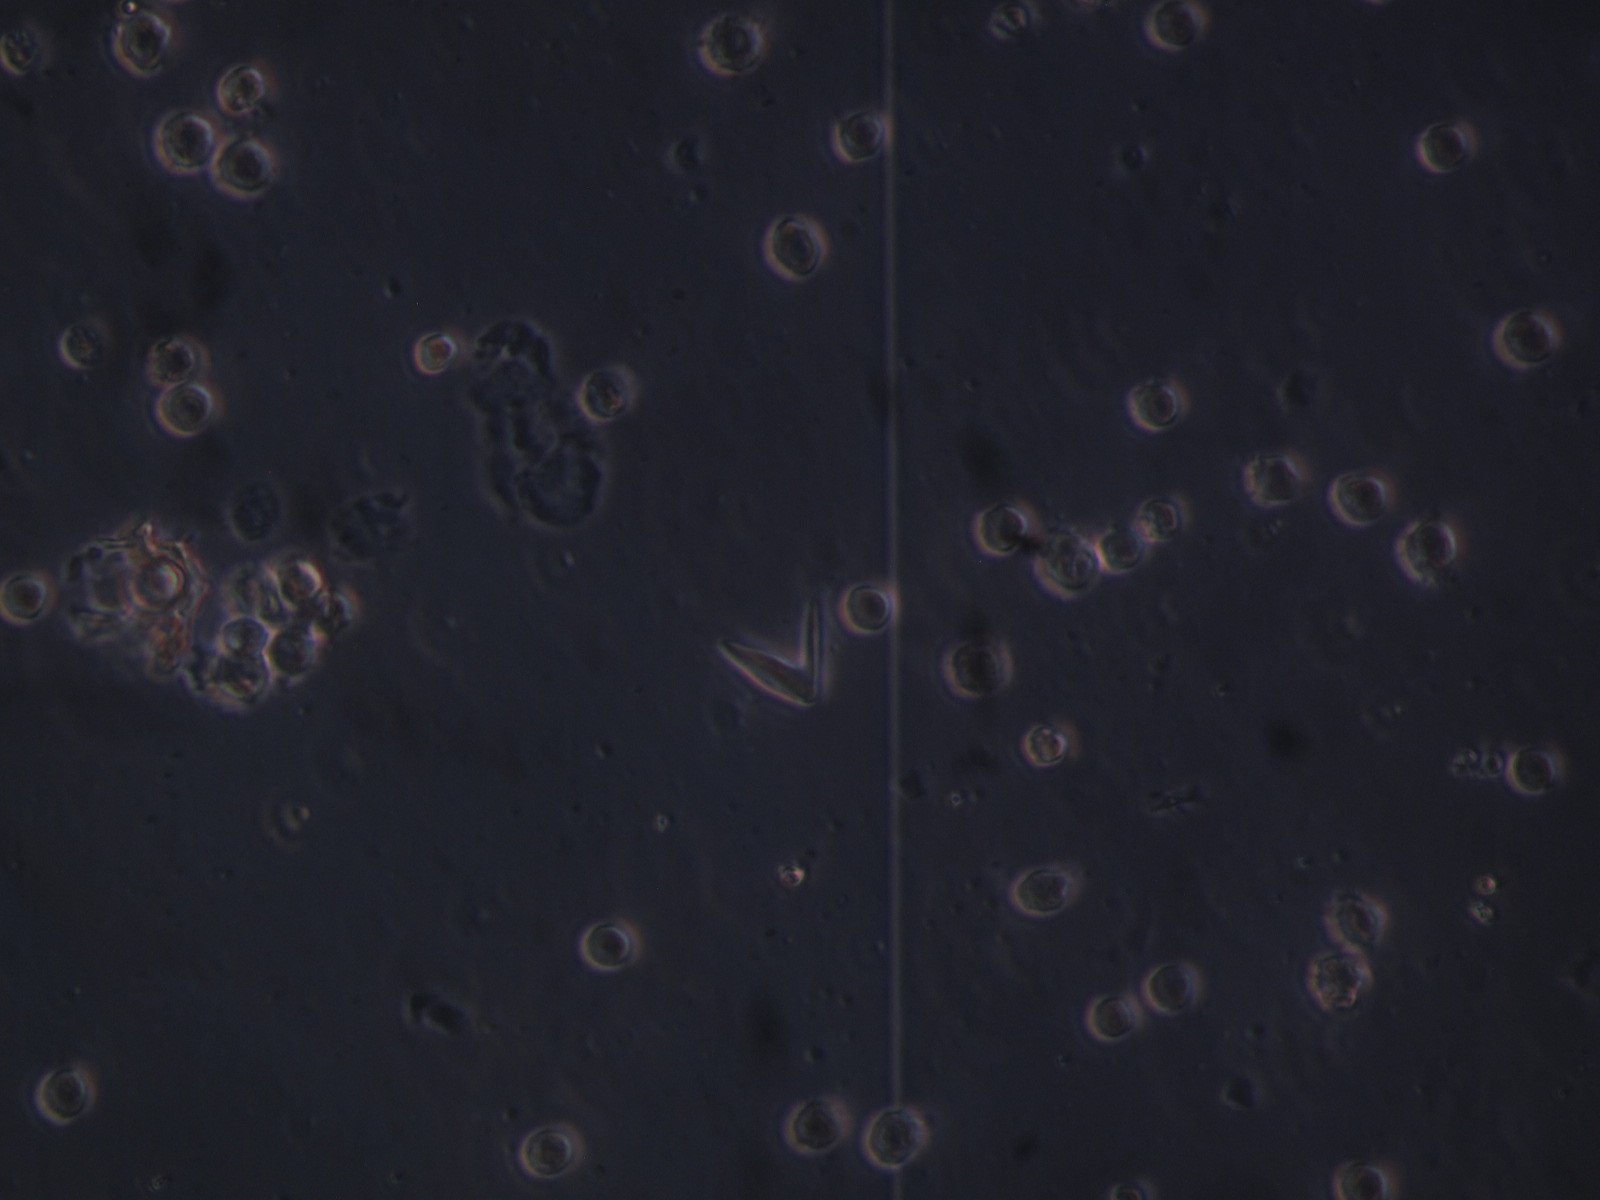hemo: (765, 211, 831, 286), (1036, 526, 1104, 599), (151, 108, 222, 175), (942, 637, 1015, 701), (698, 11, 767, 78), (210, 131, 276, 200), (864, 1102, 929, 1171), (1305, 948, 1374, 1012), (110, 9, 173, 78), (784, 1095, 853, 1158), (1395, 519, 1460, 584), (1324, 887, 1388, 953), (1493, 308, 1560, 371), (971, 495, 1038, 558), (1243, 446, 1309, 509), (154, 383, 226, 440), (1328, 468, 1395, 528), (37, 1066, 97, 1129), (1008, 863, 1078, 916), (522, 1121, 585, 1180), (578, 362, 637, 422), (1416, 118, 1478, 176), (1128, 377, 1191, 434), (837, 580, 900, 637), (1141, 1, 1209, 53), (580, 916, 641, 972), (147, 335, 212, 388), (1144, 962, 1204, 1017), (831, 108, 887, 166), (1022, 715, 1078, 770), (1085, 992, 1144, 1045), (1094, 523, 1154, 575), (1, 571, 57, 625), (1136, 492, 1191, 546), (1334, 1158, 1403, 1200), (1507, 744, 1557, 799), (271, 626, 320, 683), (218, 64, 267, 117), (60, 321, 112, 371), (217, 613, 272, 657), (275, 558, 323, 605), (412, 332, 460, 376)
